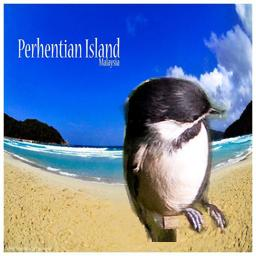Swallow: (119, 72, 233, 242)
